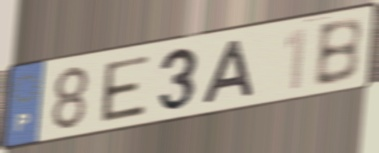1: (283, 25, 308, 92)
3: (155, 44, 203, 114)
8: (48, 63, 94, 133)
A: (199, 36, 258, 108)
B: (311, 15, 365, 90)
E: (100, 52, 152, 125)
